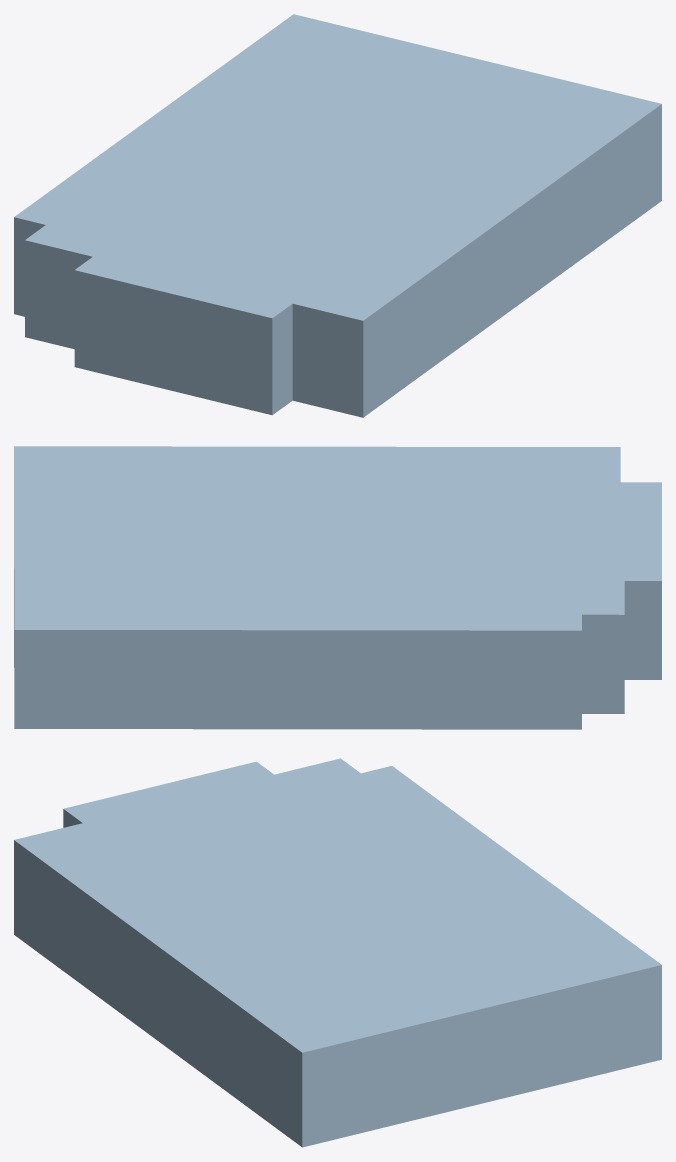
Rendered from osm_way_1281082570.glb.
The picture shows the model from 3 angles, top to bottom: view 1: azimuth 30°, elevation 25°; view 2: azimuth 150°, elevation 25°; view 3: azimuth 270°, elevation 25°; orthographic projection. The views are drawn at different scales.
Visible parts, largest first — view 1: osm_way_1281082570; view 2: osm_way_1281082570; view 3: osm_way_1281082570.
Part boxes in pixels (x1,y1,x2,y2): osm_way_1281082570: (14,14,661,417); osm_way_1281082570: (14,446,661,729); osm_way_1281082570: (14,758,661,1147).
Bounding box in the file's own units: 132 × 19.8 × 123.
